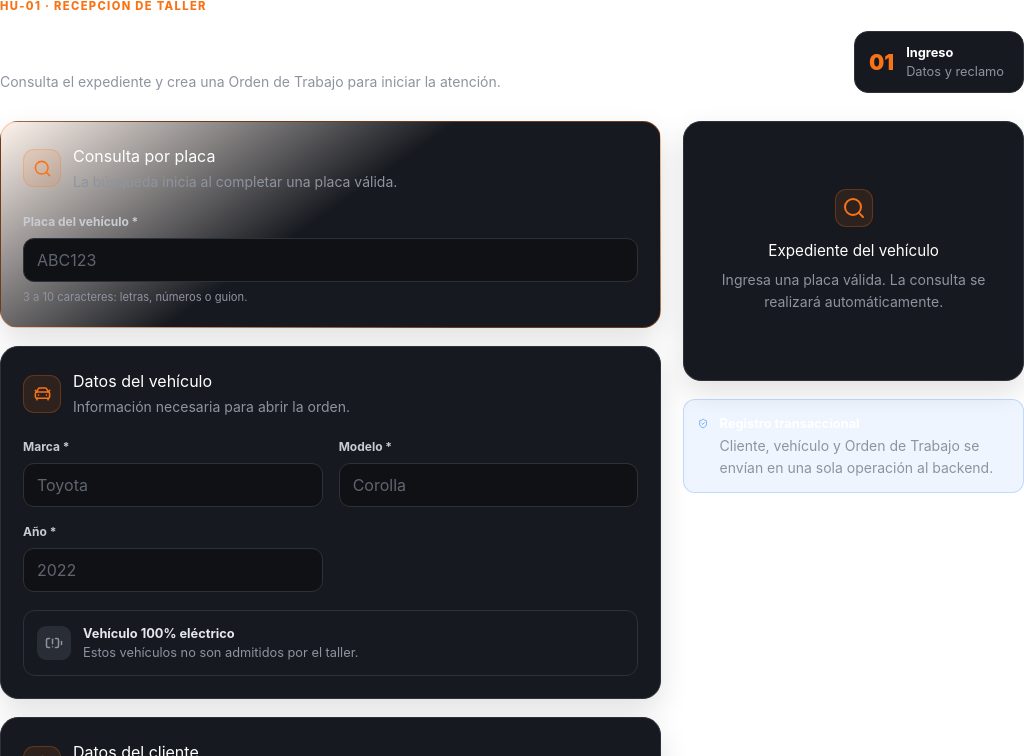
Test: VehicleReceptionPage › blocks an existing fully electric vehicle
This screenshot has width=1024, height=756.
Type "ELE123" into the field labelled "Placa del vehículo *".
click(331, 260); type("ELE123")  # box left=23, top=238, right=638, bottom=282
(page scrolled)
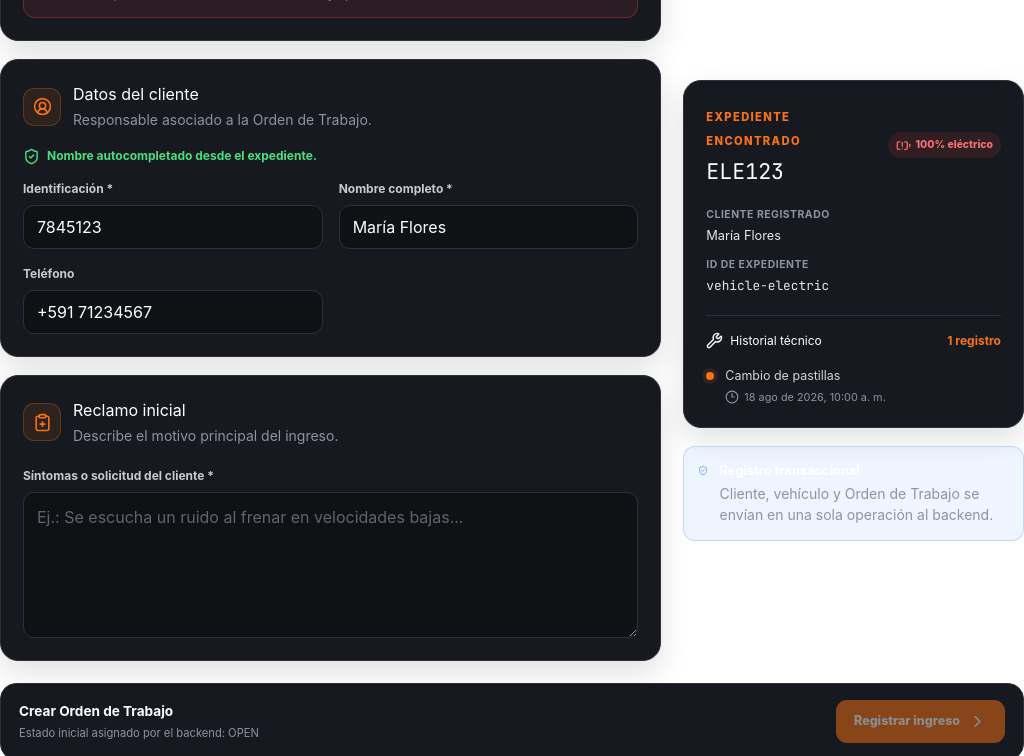
Now the button "Registrar ingreso" is disabled, box left=836, top=700, right=1005, bottom=743
